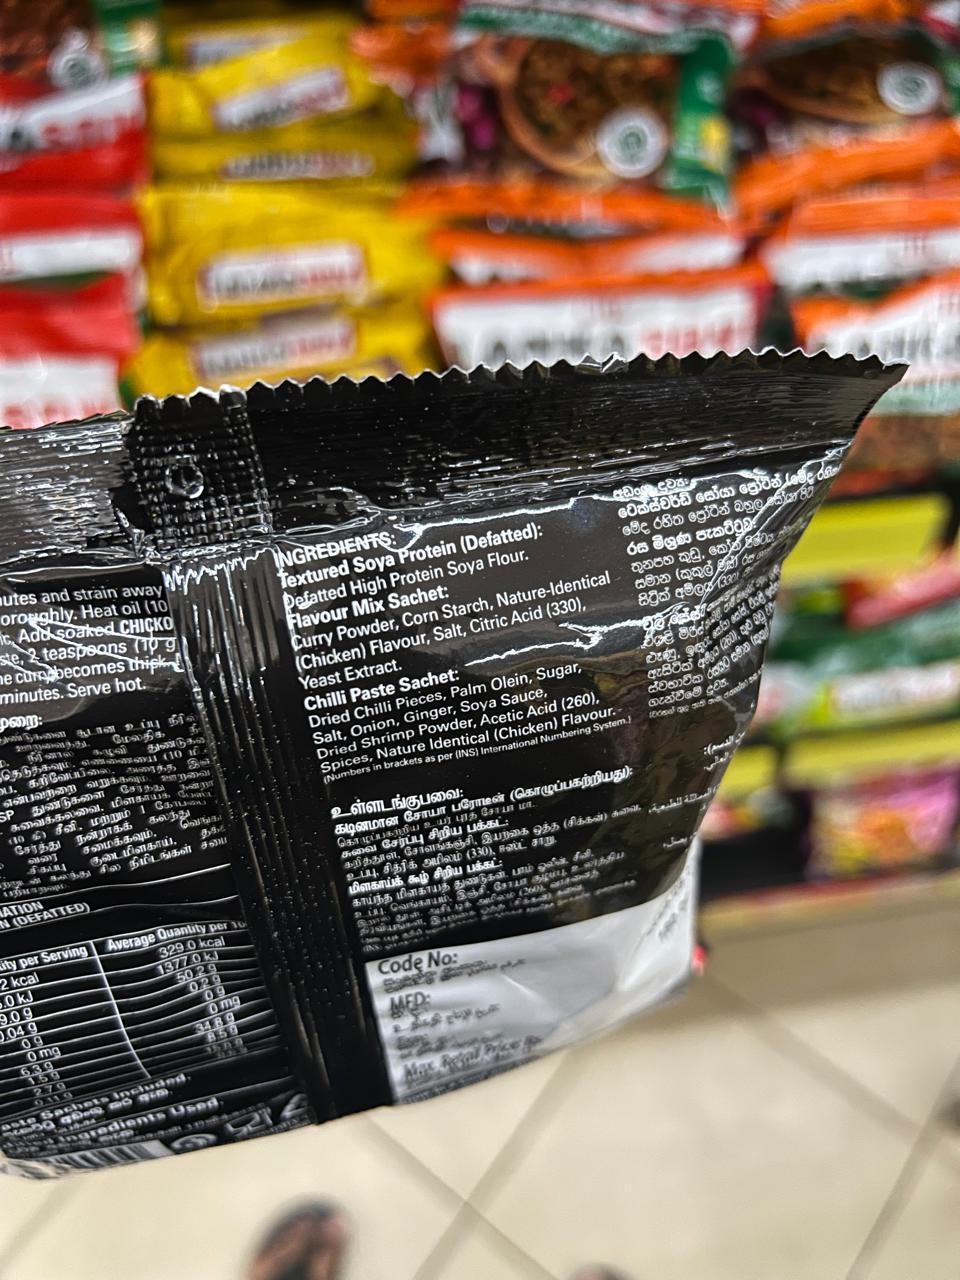ingredients: (248, 501, 689, 784)
